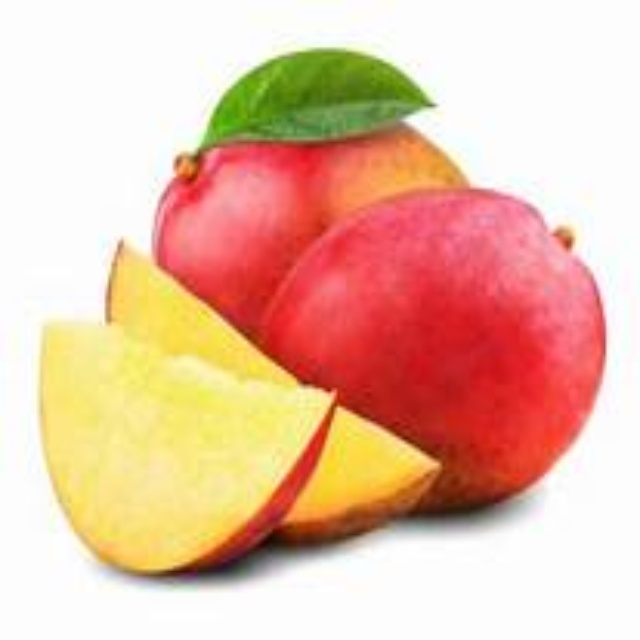mango: (281, 199, 608, 509), (160, 108, 461, 328)
